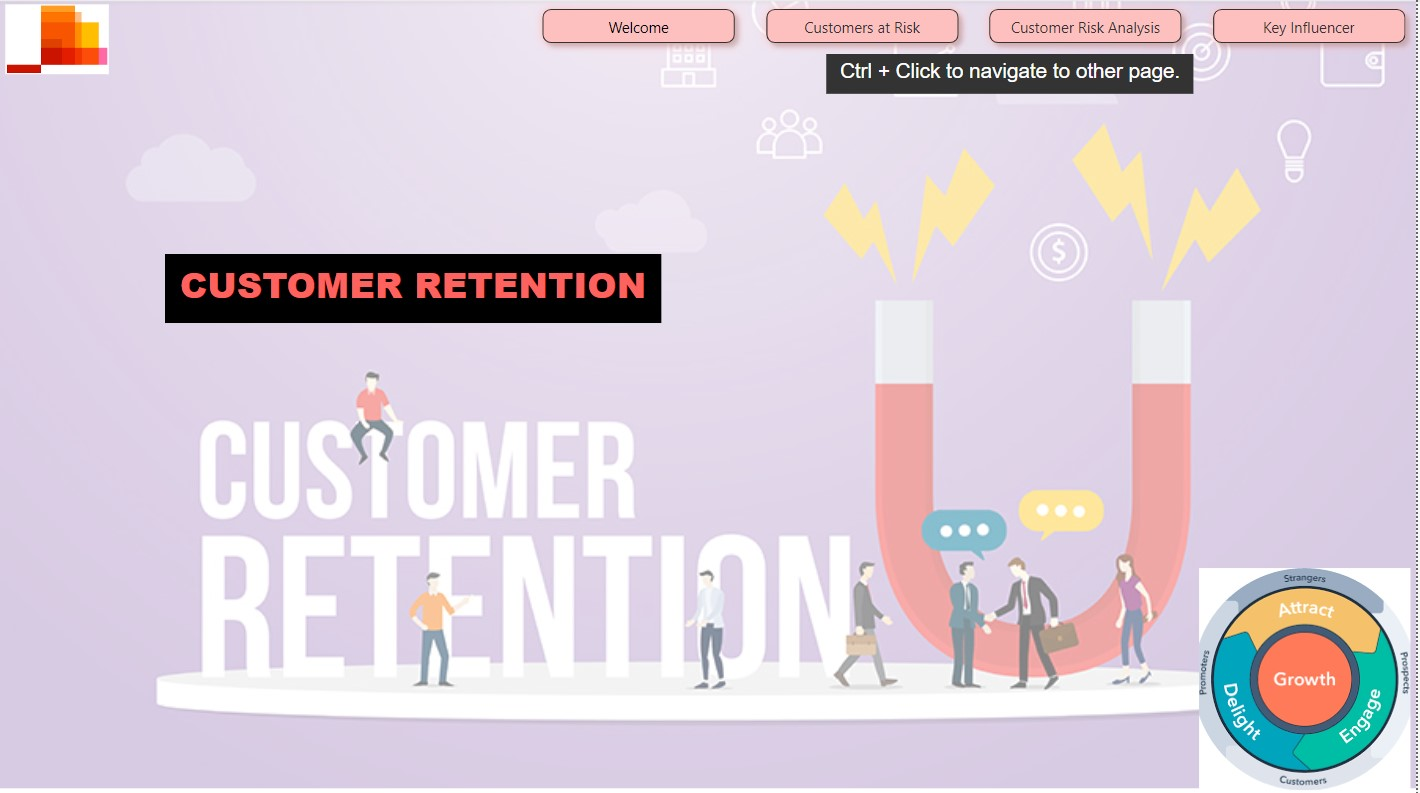

The dashboard page shown, as its layout file describes it:
{"tool":"powerbi","page":{"name":"Welcome","canvas":[1280,720],"ordinal":0},"visuals":[{"type":"textbox","box":[148.7,230.1,448.5,62.7],"z":0},{"type":"pageNavigator","box":[481,0,799.4,50],"z":1000},{"type":"image","box":[0,0,103.4,73.2],"z":2000},{"type":"textbox","box":[747.1,50,332.3,36],"z":3000},{"type":"image","box":[1079.5,510.1,201,210.3],"z":4000}]}

Visuals, with their boxes in screenshot pixels (x1, y1, x2, y2), scaled from the page's 1280x720 canvas onto the 1420x793 screenshot:
textbox: pyautogui.locateOnScreen(165, 253, 663, 322)
pageNavigator: pyautogui.locateOnScreen(534, 0, 1419, 55)
image: pyautogui.locateOnScreen(0, 0, 115, 81)
textbox: pyautogui.locateOnScreen(829, 55, 1197, 95)
image: pyautogui.locateOnScreen(1198, 562, 1419, 792)
